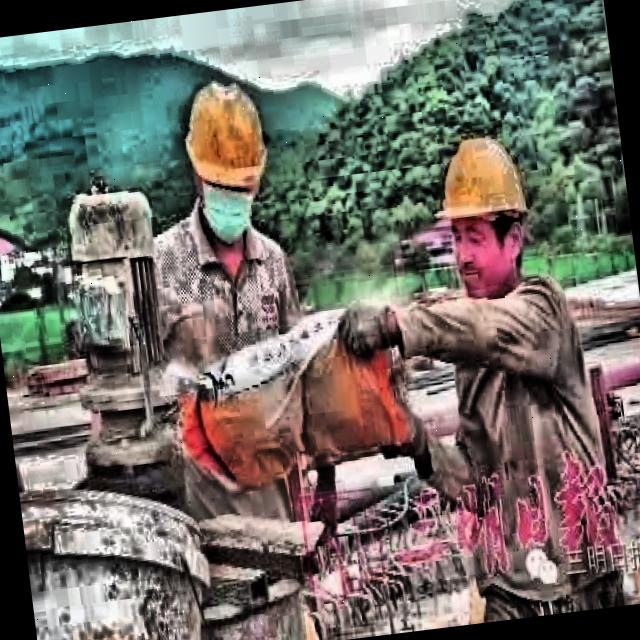helmet: (411, 112, 551, 317), (167, 58, 286, 244)
